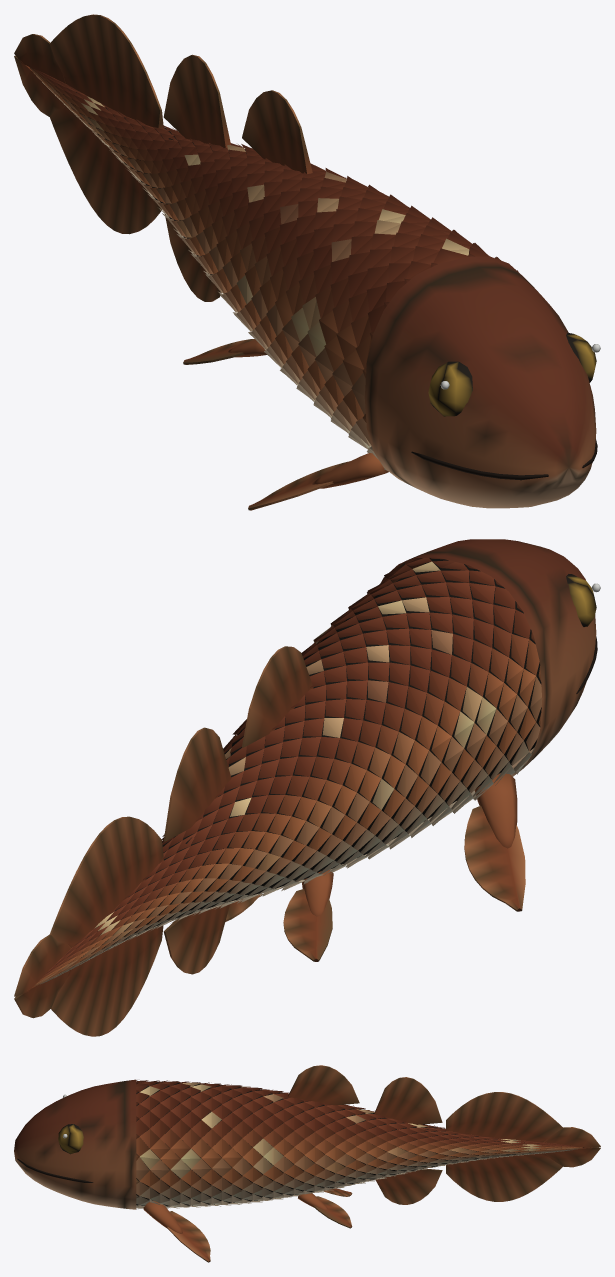
File: Gogonasus.fbx
3 renders of one model, top to bottom at view 1: azimuth 30°, elevation 25°; view 2: azimuth 150°, elevation 25°; view 3: azimuth 270°, elevation 25°, orthographic. The views are drawn at different scales.
Parts seen in each view (by area): view 1: Gogonasus; view 2: Gogonasus; view 3: Gogonasus.
Part boxes in pixels (x1,y1,x2,y2): Gogonasus: (14, 14, 600, 510); Gogonasus: (14, 539, 600, 1036); Gogonasus: (14, 1065, 600, 1262).
Size of the model in its own units: 0.4657 by 0.4978 by 1.63.
